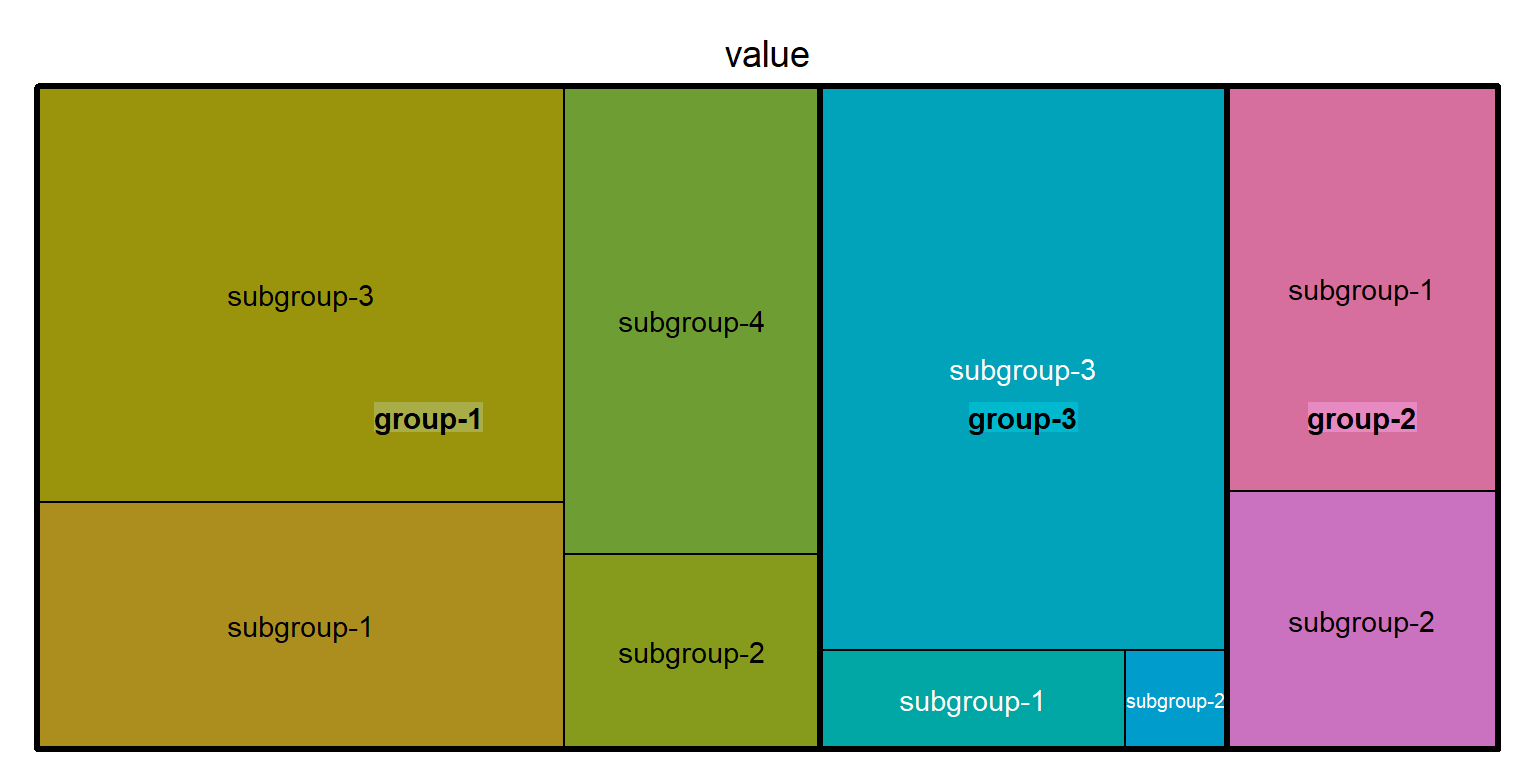

This screenshot's page, from the dashboard's own definition file:
{"tool":"tableau","page":{"name":"Dashboard 1","canvas":[1280,768],"ordinal":0},"visuals":[{"type":"worksheet","box":[0,0,1280,768]},{"type":"worksheet","param":"vert","box":[8,8,1264,752]},{"type":"worksheet","box":[8,8,1264,50]},{"type":"worksheet","param":"horz","box":[8,58,1264,702]},{"type":"worksheet","box":[8,58,1155,702]},{"type":"worksheet","title":"Sheet 3","mark":"Automatic","box":[8,58,486.5,261]},{"type":"worksheet","param":"horz","box":[494.5,58,668.5,702]},{"type":"worksheet","param":"vert","box":[494.5,58,668.5,702]},{"type":"worksheet","title":"Sheet 4","mark":"Automatic","rows":["Calculation_1529535033223892992"],"cols":["Date"],"box":[494.5,58,668.5,342.5]},{"type":"worksheet","param":"vert","box":[1163,58,109,702]},{"type":"worksheet","param":"[Parameters].[Parameter 1]","box":[1163,58,109,56]},{"type":"worksheet","title":"Sheet 1","mark":"Pie","box":[8,319,486.5,441]},{"type":"worksheet","title":"Sheet 2","mark":"Automatic","rows":["Calculation_712976126128058368"],"cols":["Tickers"],"box":[494.5,400.5,668.5,359.5]}]}

Visuals, with their boxes in screenshot pixels (x1, y1, x2, y2):
worksheet: BBox(24, 24, 1242, 755)
worksheet: BBox(32, 32, 1234, 747)
worksheet: BBox(32, 32, 1234, 79)
worksheet: BBox(32, 79, 1234, 747)
worksheet: BBox(32, 79, 1130, 747)
"Sheet 3" worksheet: BBox(32, 79, 494, 327)
worksheet: BBox(494, 79, 1130, 747)
worksheet: BBox(494, 79, 1130, 747)
"Sheet 4" worksheet: BBox(494, 79, 1130, 405)
worksheet: BBox(1130, 79, 1234, 747)
worksheet: BBox(1130, 79, 1234, 132)
"Sheet 1" worksheet (Pie marks): BBox(32, 327, 494, 747)
"Sheet 2" worksheet: BBox(494, 405, 1130, 747)
